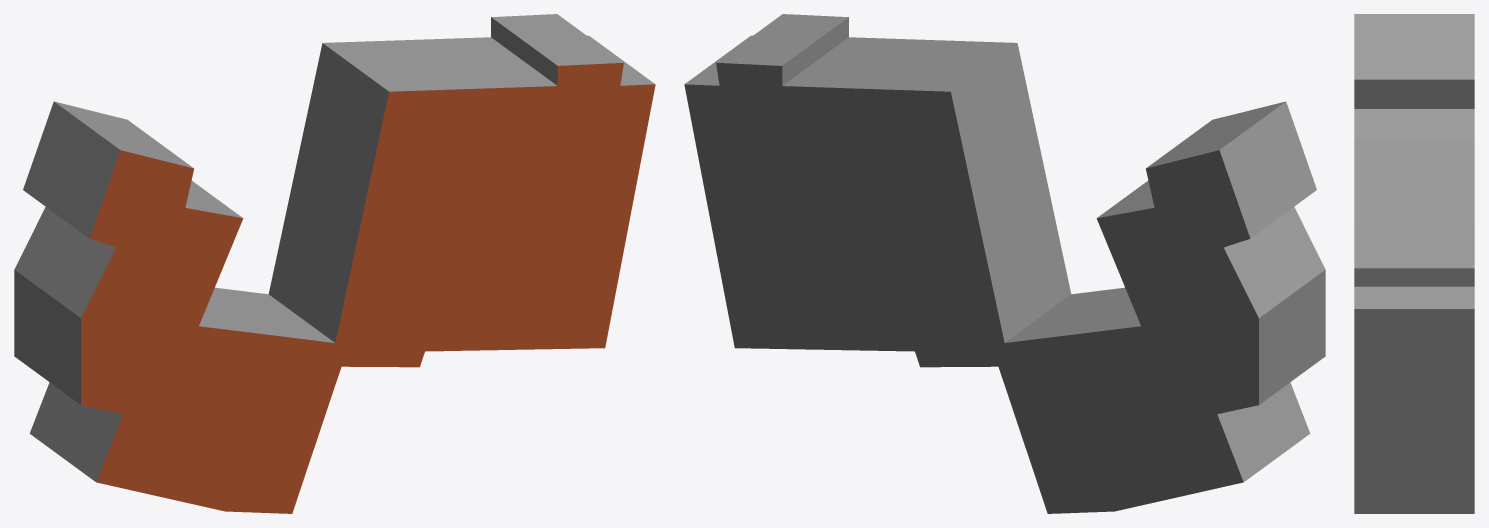
Rendered from construction_2320_assumed_A_Casa_h6m.obj.
3 views of the same model, side by side, from view 1: azimuth 30°, elevation 25°; view 2: azimuth 150°, elevation 25°; view 3: azimuth 270°, elevation 25° (orthographic). The views are drawn at different scales.
Visible parts, largest first — view 1: construction_2320_assumed_A_Casa; view 2: construction_2320_assumed_A_Casa; view 3: construction_2320_assumed_A_Casa.
Boxes of the visible parts, box(x1,y1,x2,y2) form: construction_2320_assumed_A_Casa: box(14, 14, 655, 513); construction_2320_assumed_A_Casa: box(684, 14, 1325, 513); construction_2320_assumed_A_Casa: box(1354, 14, 1474, 513).
Bounding box in the file's own units: 29.86 × 20.15 × 6.
